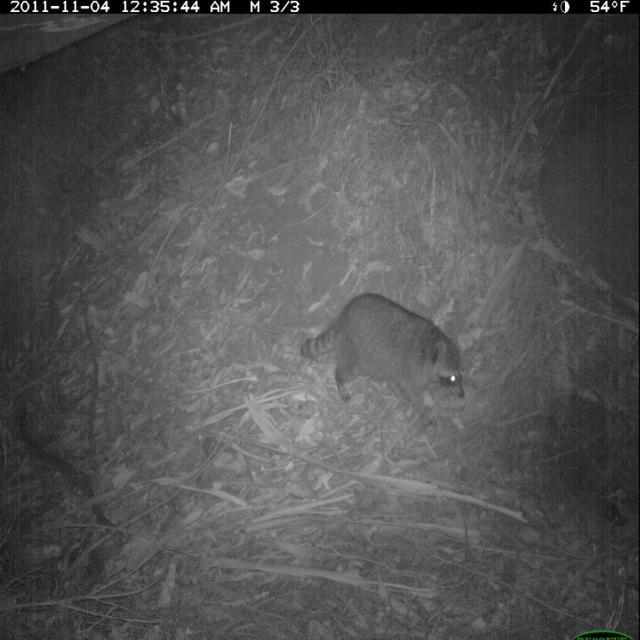raccoon: (300, 277, 469, 428)
